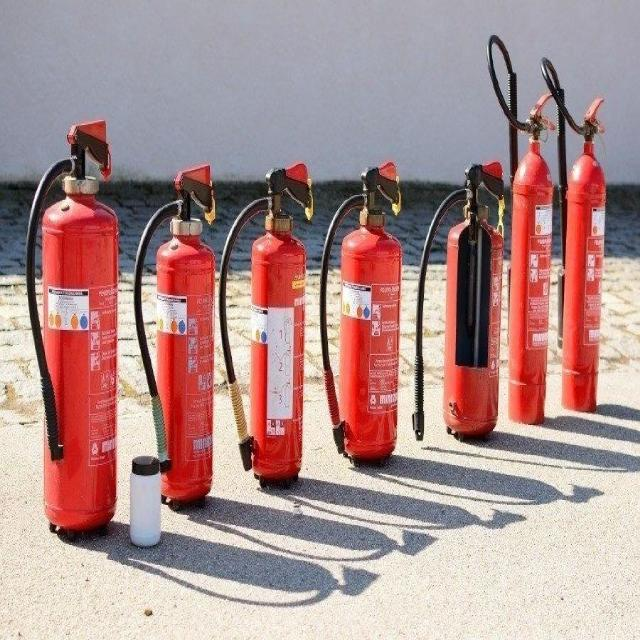fire_extinguisher: (23, 116, 121, 543), (215, 158, 314, 492), (128, 160, 217, 514), (483, 28, 558, 428), (410, 160, 507, 450), (316, 158, 404, 470), (538, 46, 612, 415)
